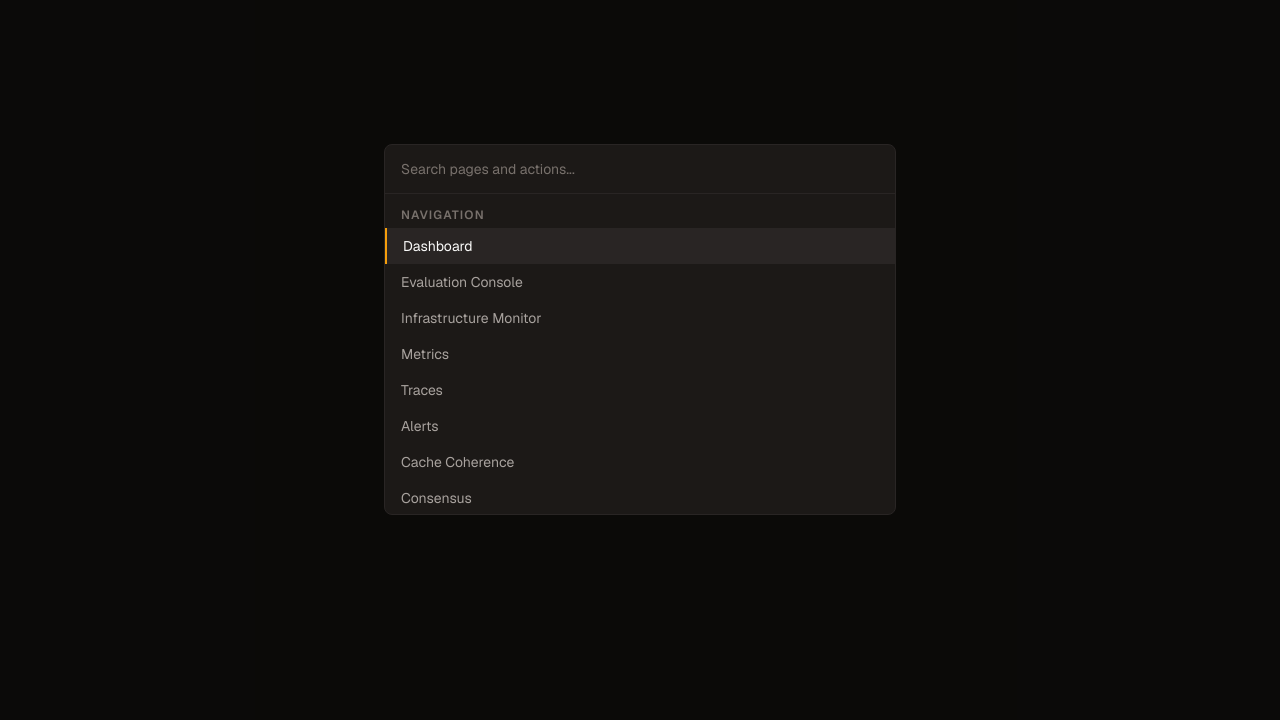
CommandPalette › filters items based on search query
Type "Quantum" into the field with placeholder "Search pages and actions..." at (640, 169), box [401,159,879,179]
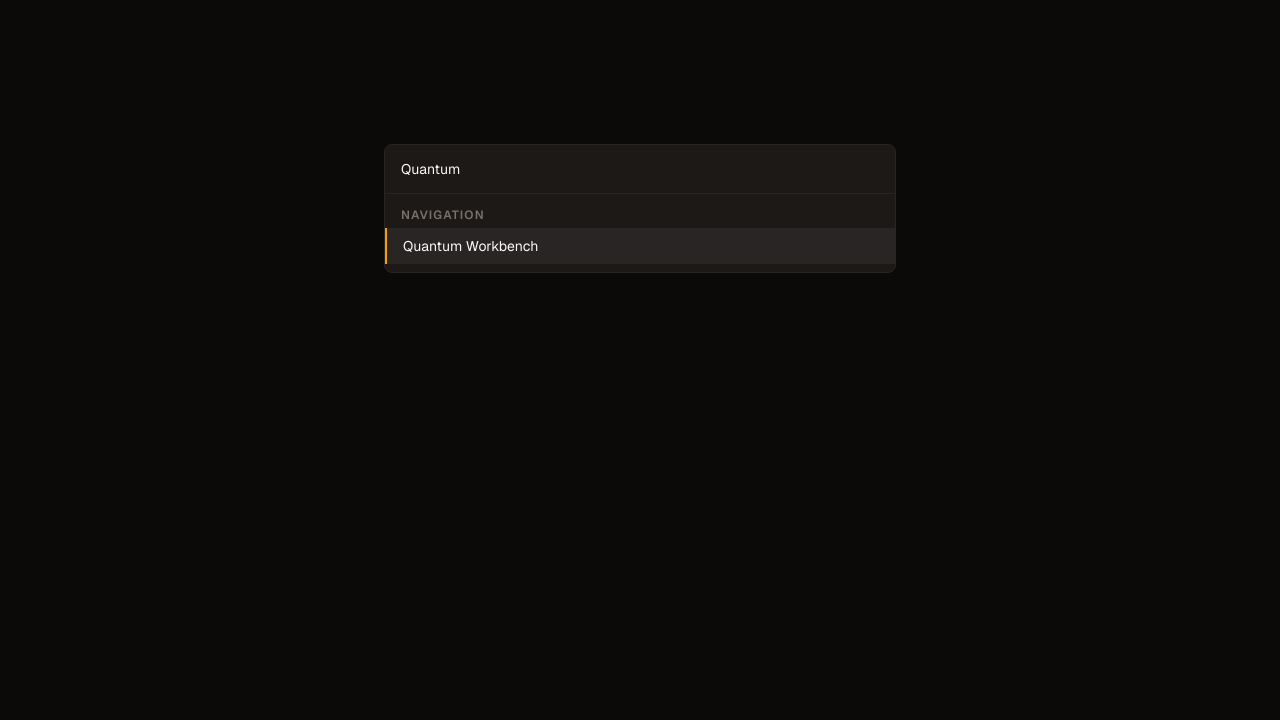
Result: the text "Quantum Workbench" is shown at [403,237,538,255]
Result: the button "Dashboard" is gone
